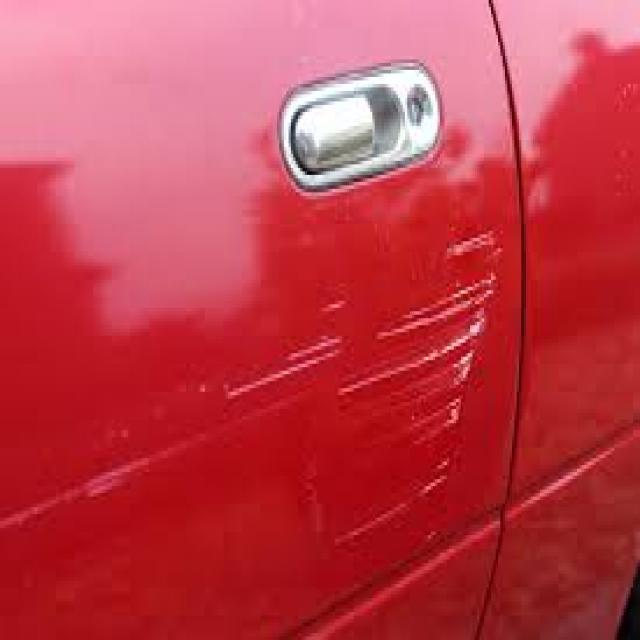minor: (54, 226, 503, 577)
